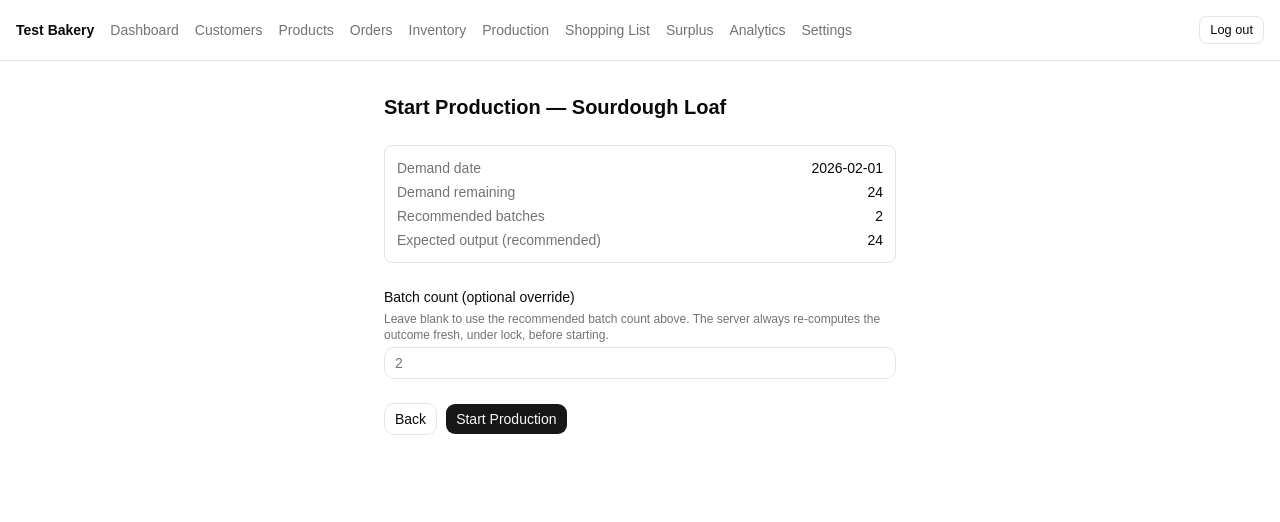
Start Production page › shows the cost-basis-unknown error with no acknowledgment path
Expected: the heading "Start Production — Sourdough Loaf" is shown, left=384, top=96, right=726, bottom=118
What coordinates should you click on to do the following:
click the button "Start Production"
I would click on:
 (506, 419)
Its box is left=445, top=403, right=568, bottom=435.
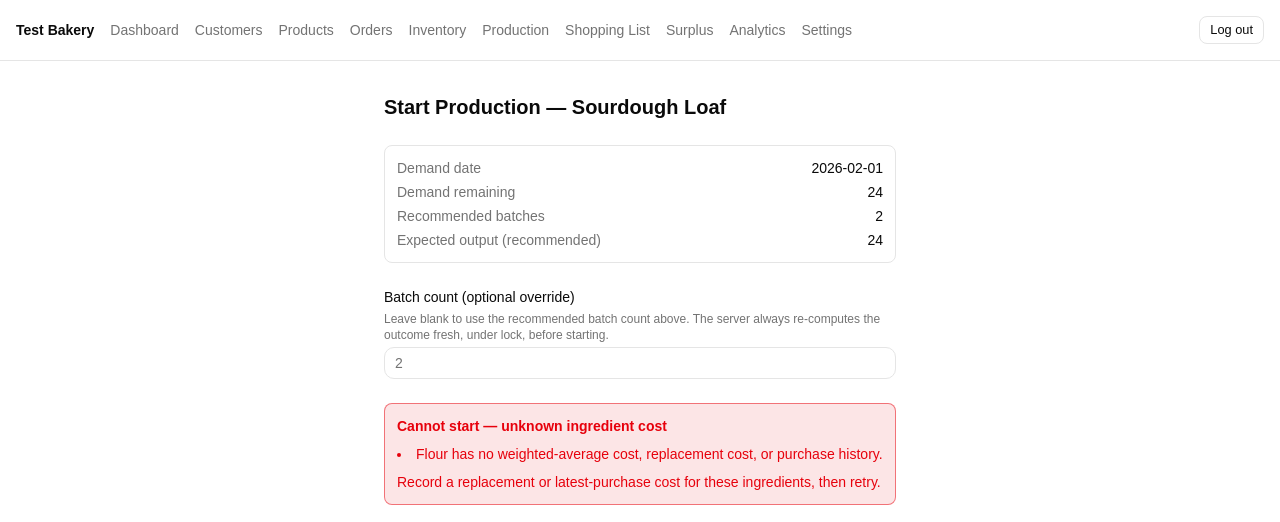
Expected: the text "Flour has no weighted-average cost, replacement cost, or purchase history." is shown, left=397, top=444, right=883, bottom=464
